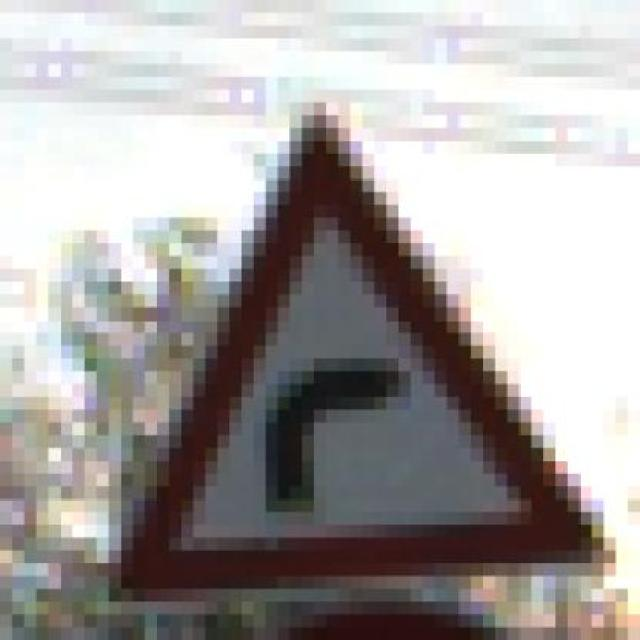Dangerous Rright Curve Ahead: (96, 77, 629, 601)
